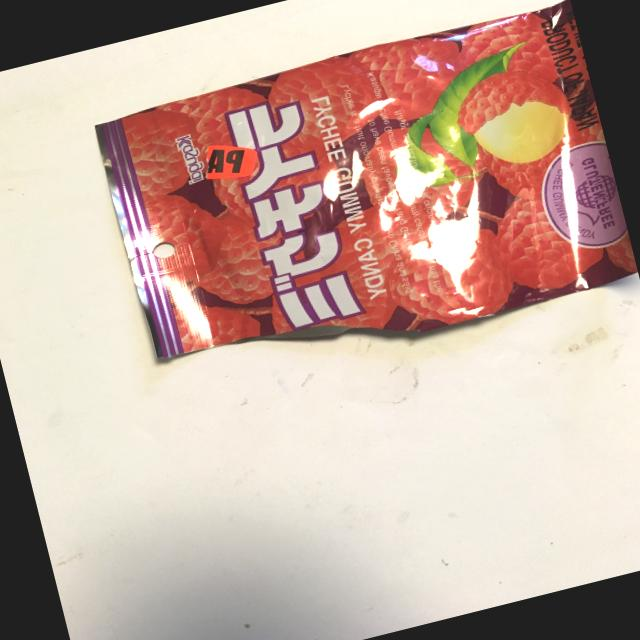Plastic: (67, 0, 640, 416)
